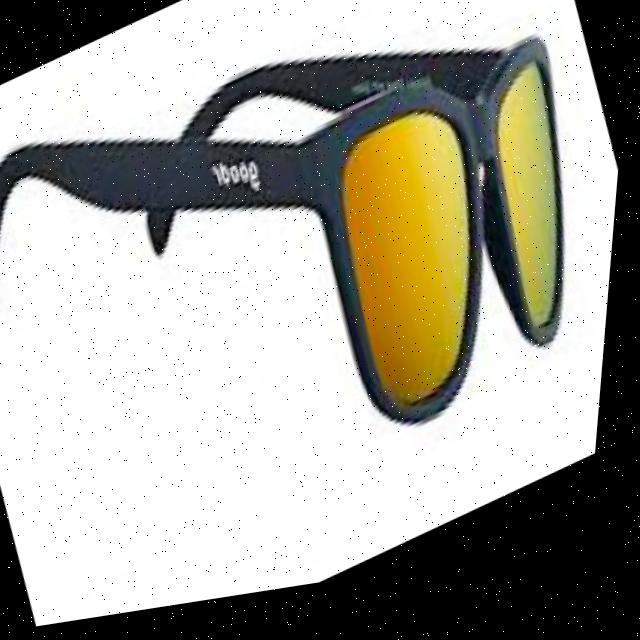gozluk: (249, 8, 634, 496)
